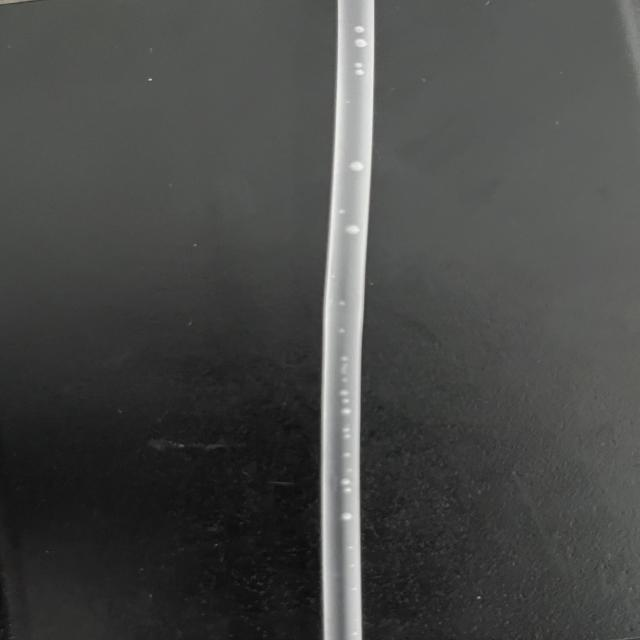bubble: (352, 222, 386, 251), (328, 425, 364, 446), (352, 60, 379, 84), (332, 509, 362, 529), (333, 473, 357, 495), (326, 200, 347, 225), (347, 18, 370, 39), (354, 150, 371, 178), (338, 448, 364, 466), (330, 382, 353, 402), (333, 402, 355, 421), (335, 351, 359, 368), (332, 322, 355, 338), (340, 295, 357, 315), (354, 43, 377, 53)
